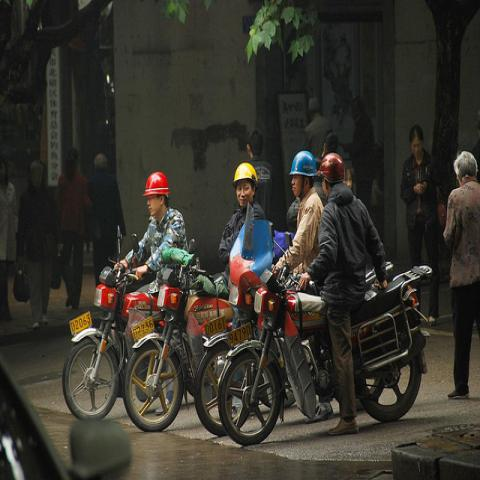car: (3, 354, 139, 475)
motorcycle: (217, 221, 434, 447), (124, 238, 232, 433), (64, 222, 162, 423), (194, 201, 272, 435)
